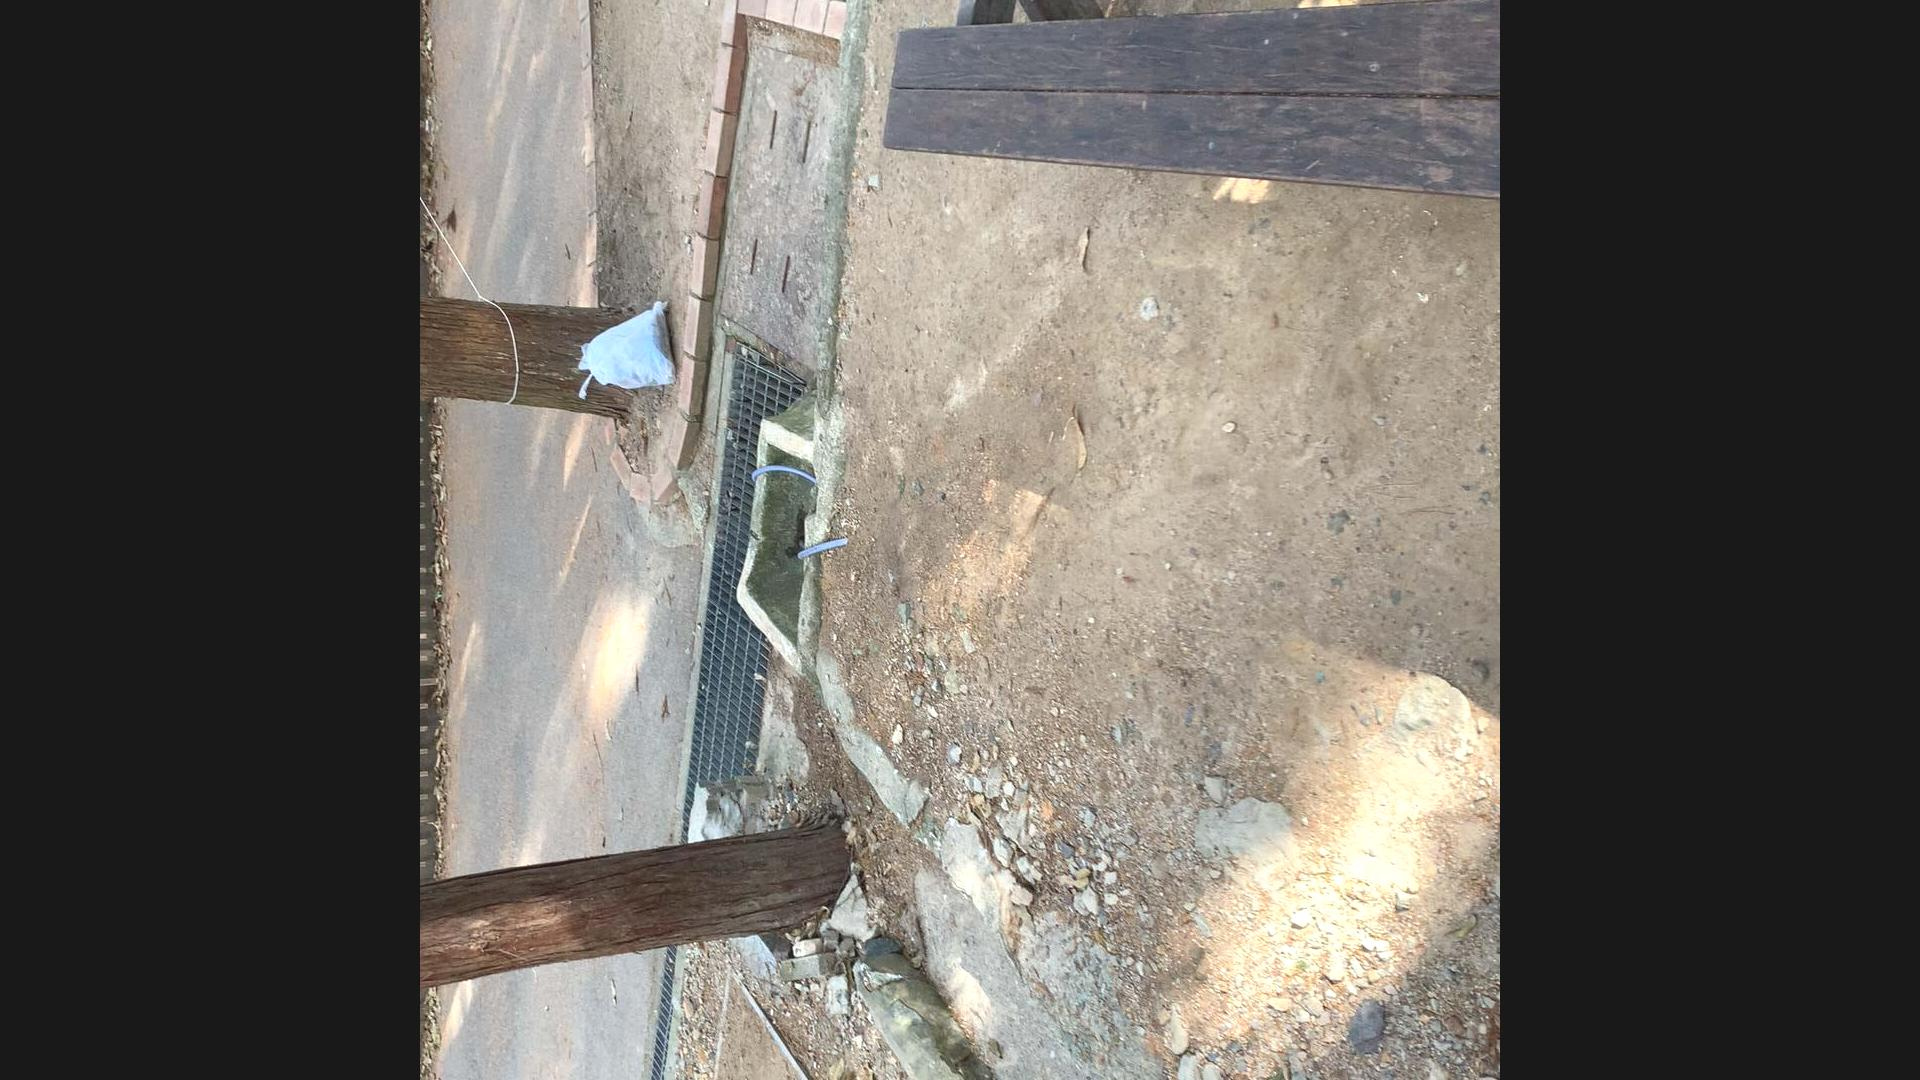white_bag: (568, 291, 684, 401)
